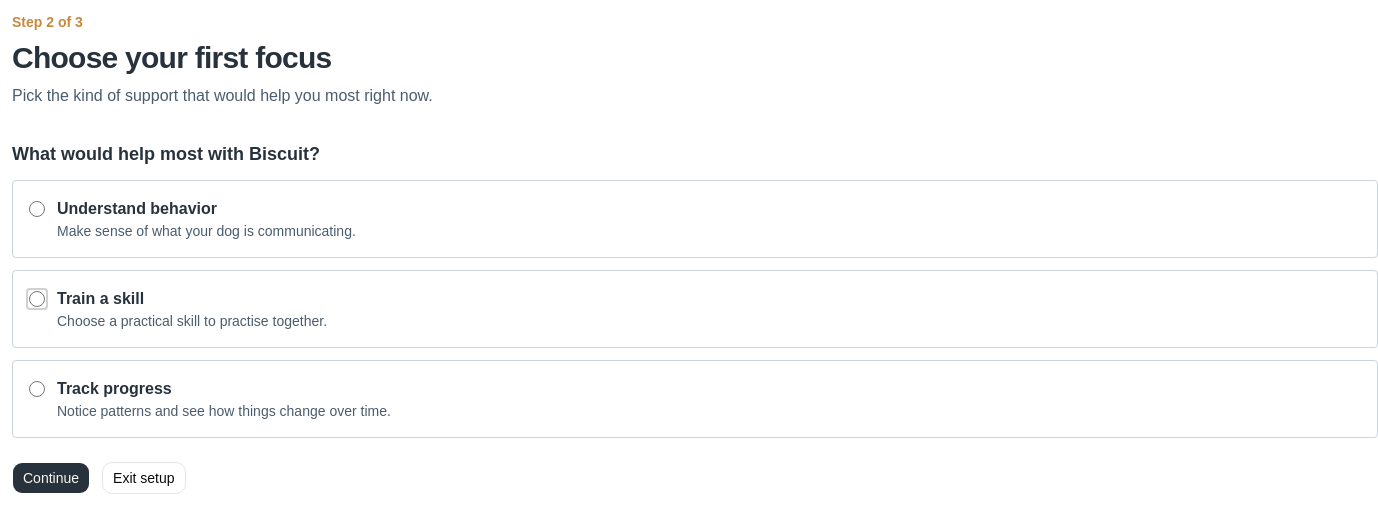
Test case: GuidedSetup › resumes an active intent step and saves a keyboard-selected intent
Type keys " "
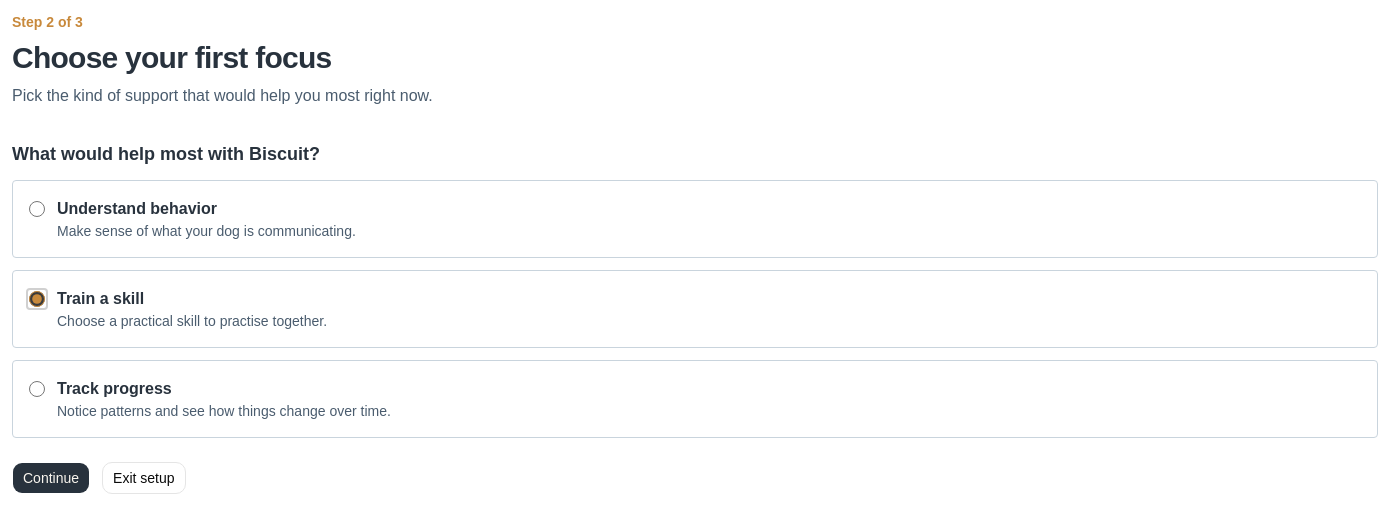
Click the button "Continue". click: point(51, 478)
box: [12,462,90,494]
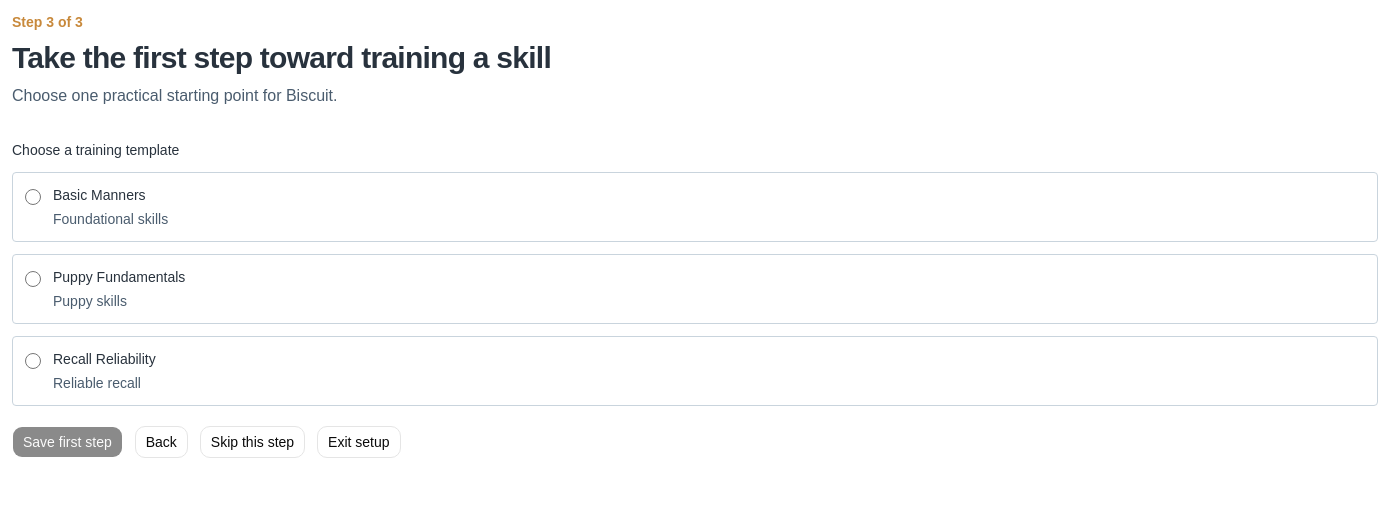
Result: the text "Step 3 of 3" is shown at [12,14,83,30]
